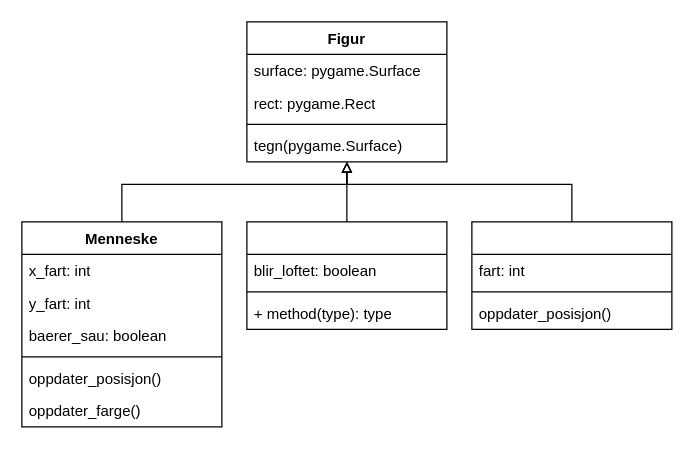
Some shapes in this 694 by 453 pixel diagram are drawn without their labels. Each missing label, with the box of its shape:
Sau: (246, 221, 447, 329)
Spokelse: (471, 221, 672, 329)
